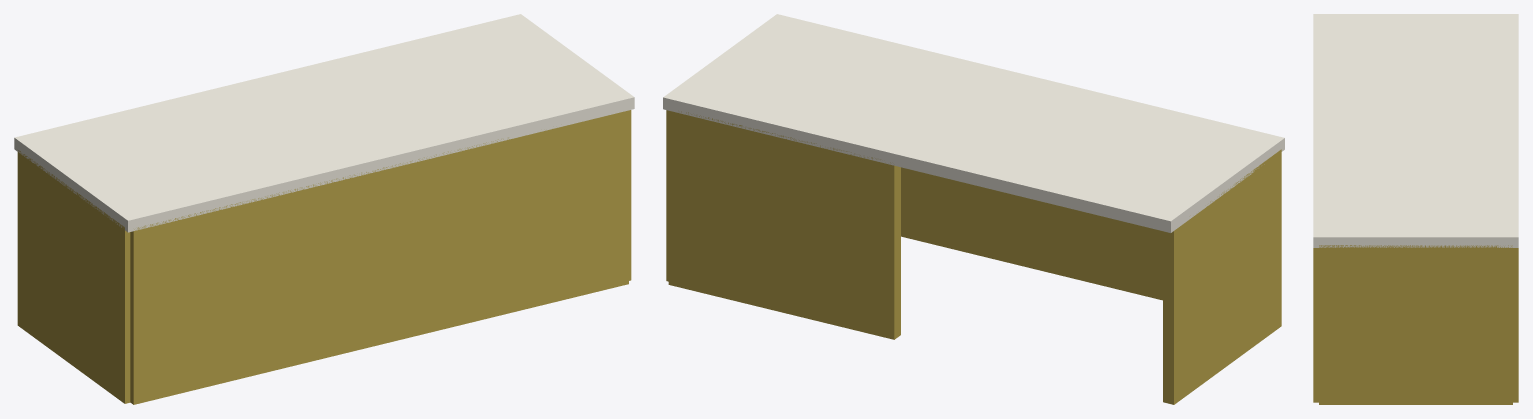
File: reception_desk.glb
The picture shows the model from 3 angles, left to right: view 1: azimuth 30°, elevation 25°; view 2: azimuth 150°, elevation 25°; view 3: azimuth 270°, elevation 25°; orthographic projection. The views are drawn at different scales.
Visible parts, largest first — view 1: body, top; view 2: top, return, body; view 3: top, body, return.
Part boxes in pixels (left/top/right/bottom): body: left=17, top=110, right=631, bottom=404; top: left=14, top=14, right=634, bottom=232; top: left=663, top=14, right=1284, bottom=232; return: left=668, top=111, right=900, bottom=339; body: left=666, top=110, right=1281, bottom=404; top: left=1313, top=14, right=1518, bottom=247; body: left=1313, top=245, right=1512, bottom=404; return: left=1513, top=248, right=1518, bottom=402.
Size of the model in its own units: 1.8 by 0.63 by 0.7.
